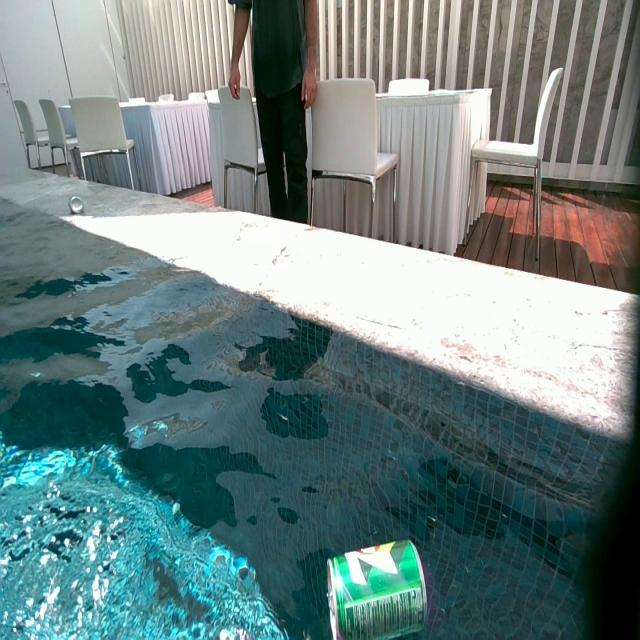Cans: (326, 537, 442, 637), (68, 195, 84, 216)
